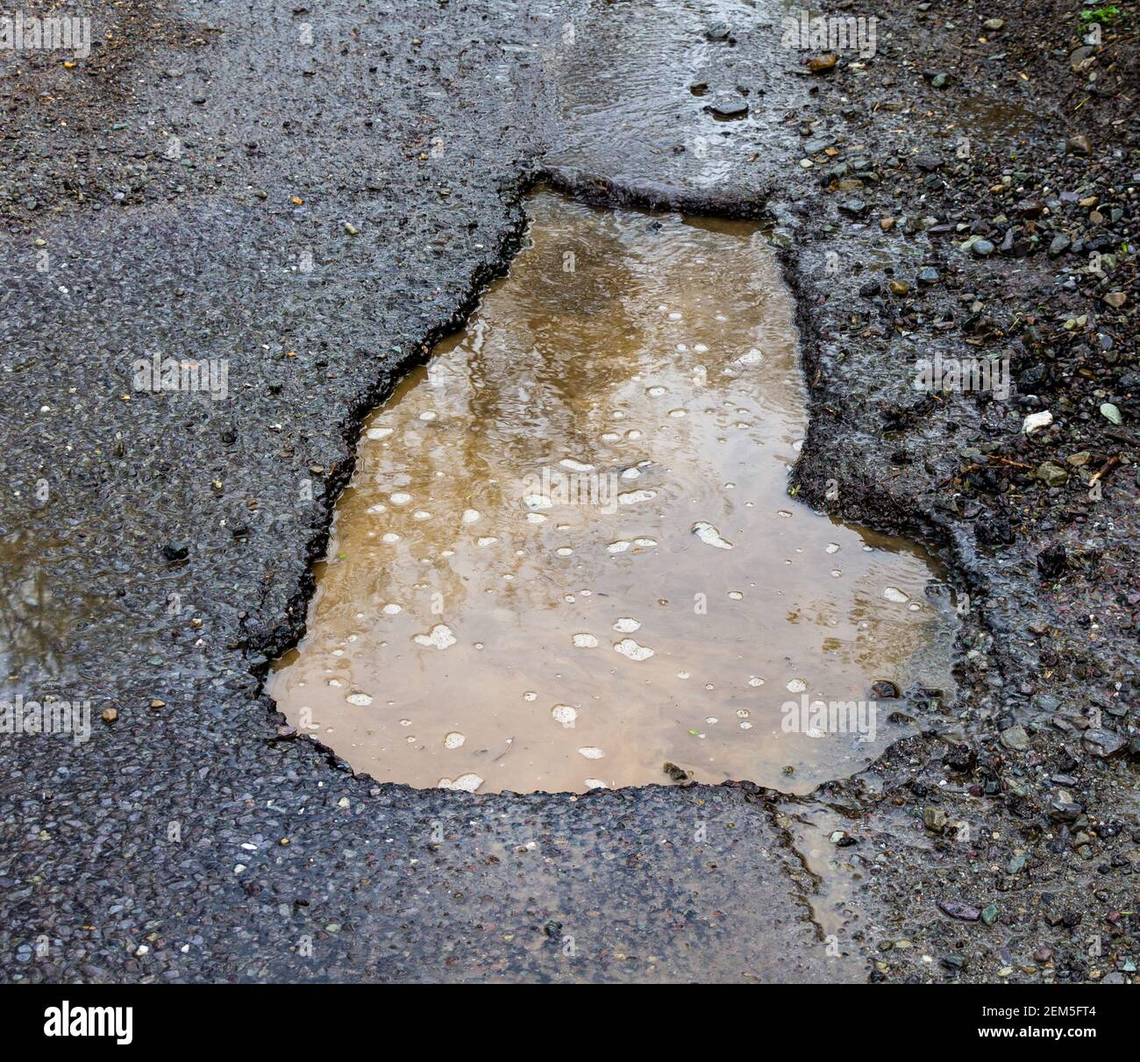Hole_in_the_road: (234, 121, 1029, 877)
